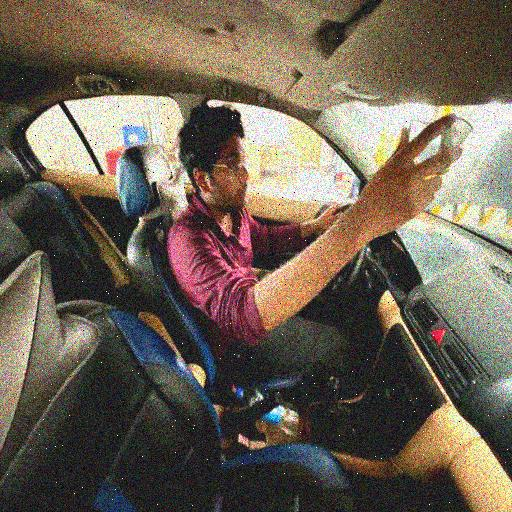Hair Mirror: (163, 105, 463, 342)
